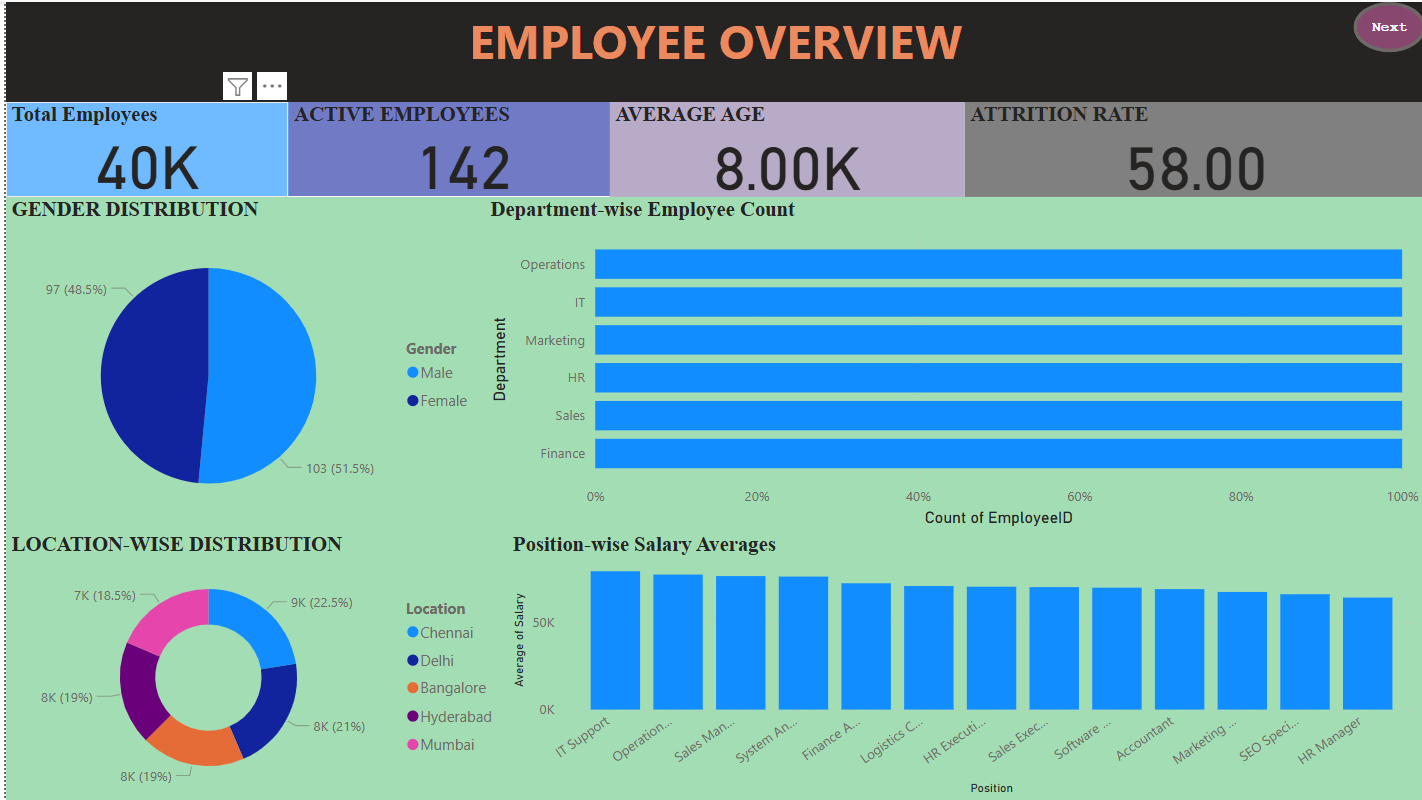

This screenshot's page, from the dashboard's own definition file:
{"tool":"powerbi","page":{"name":"Employee Overview","canvas":[1280,720],"ordinal":0},"visuals":[{"type":"textbox","box":[0,0,1280.3,90.5],"z":0},{"type":"card","title":"Total Employees","fields":{"Values":["Sum(Employees.Total Employees)"]},"box":[0,90.6,255.2,85.1],"z":1000},{"type":"card","title":"ACTIVE EMPLOYEES","fields":{"Values":["Sum(Employees.Active Employees)"]},"box":[255.2,90.6,315.6,85.1],"z":2000},{"type":"card","title":"AVERAGE AGE","fields":{"Values":["Sum(Employees.Average Age)"]},"box":[544.2,90.5,320.4,85.6],"z":3000},{"type":"card","title":"ATTRITION RATE","fields":{"Values":["Sum(Employees.Attrition Rate)"]},"box":[864.5,90.5,415.8,85.6],"z":4000},{"type":"pieChart","title":"GENDER DISTRIBUTION","fields":{"Y":["CountNonNull(Employees.Gender)"],"Category":["Employees.Gender"]},"box":[0,176.1,431.7,302],"z":5000},{"type":"hundredPercentStackedBarChart","title":"Department-wise Employee Count","fields":{"Y":["CountNonNull(Employees.EmployeeID)"],"Category":["Employees.Department"]},"box":[431.7,176.1,847.4,302],"z":6000},{"type":"donutChart","title":"LOCATION-WISE DISTRIBUTION","fields":{"Category":["Employees.Location"],"Y":["Sum(Employees.Total Employees)"]},"box":[0,478.1,452.4,242.1],"z":7000},{"type":"clusteredColumnChart","title":"Position-wise Salary Averages","fields":{"Category":["Employees.Position"],"Y":["Avg(Employees.Salary)"]},"box":[452.4,478.1,826.6,242.1],"z":8000},{"type":"actionButton","title":"Next","box":[1215.5,0,64.8,45.2],"z":9000}]}

Visuals, with their boxes in screenshot pixels (x1, y1, x2, y2), scaled from the page's 1280x720 canvas onto the 1422x800 screenshot:
textbox: {"left": 0, "top": 0, "right": 1421, "bottom": 101}
"Total Employees" card: {"left": 0, "top": 101, "right": 284, "bottom": 195}
"ACTIVE EMPLOYEES" card: {"left": 284, "top": 101, "right": 634, "bottom": 195}
"AVERAGE AGE" card: {"left": 605, "top": 101, "right": 961, "bottom": 196}
"ATTRITION RATE" card: {"left": 960, "top": 101, "right": 1421, "bottom": 196}
"GENDER DISTRIBUTION" pieChart: {"left": 0, "top": 196, "right": 480, "bottom": 531}
"Department-wise Employee Count" hundredPercentStackedBarChart: {"left": 480, "top": 196, "right": 1421, "bottom": 531}
"LOCATION-WISE DISTRIBUTION" donutChart: {"left": 0, "top": 531, "right": 503, "bottom": 799}
"Position-wise Salary Averages" clusteredColumnChart: {"left": 503, "top": 531, "right": 1421, "bottom": 799}
"Next" actionButton: {"left": 1350, "top": 0, "right": 1421, "bottom": 50}
